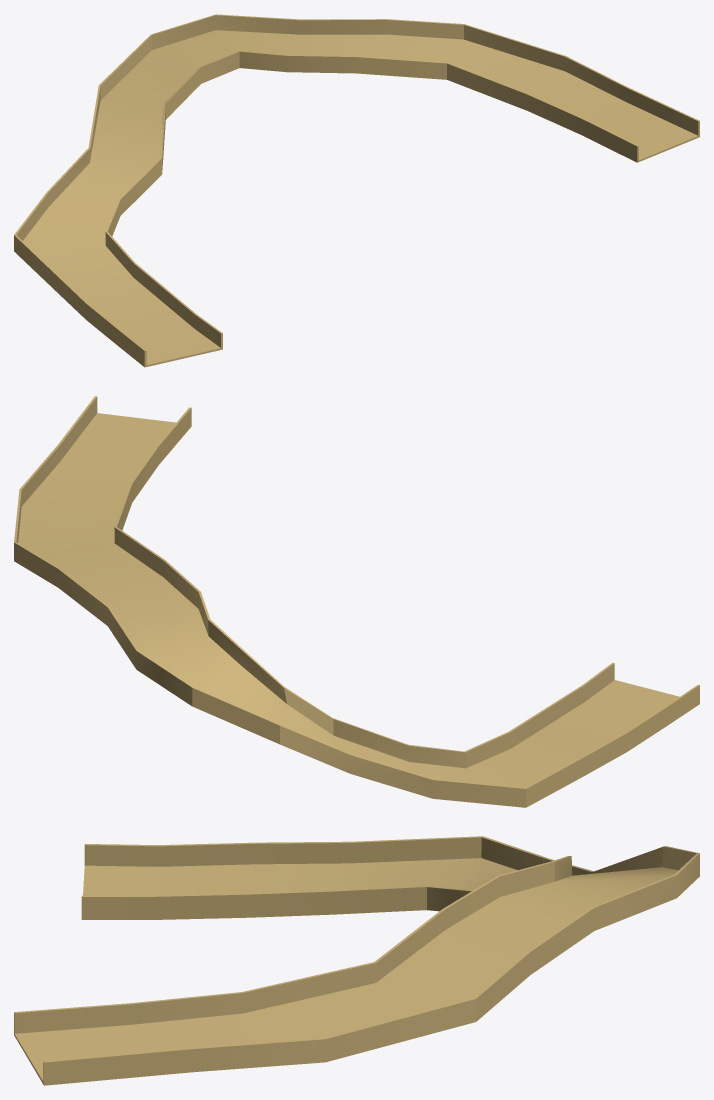
Rendered from floating road 2.fbx.
3 views of the same model, one above another, from view 1: azimuth 30°, elevation 25°; view 2: azimuth 150°, elevation 25°; view 3: azimuth 270°, elevation 25° (orthographic). The views are drawn at different scales.
Visible parts, largest first — view 1: floating road 2; view 2: floating road 2; view 3: floating road 2.
Part boxes in pixels (x1,y1,x2,y2): floating road 2: (14,14,699,367); floating road 2: (14,396,699,807); floating road 2: (14,836,699,1085).
Size of the model in its own units: 216 by 51.7 by 168.
